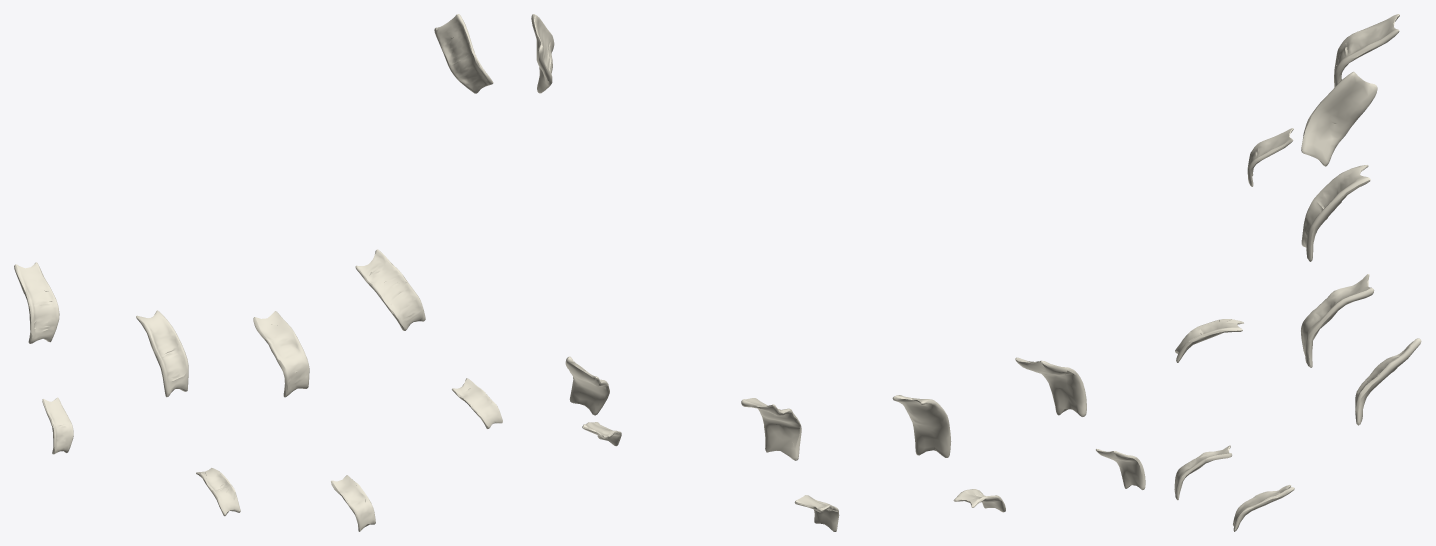
File: fma42769-l_mm1501.glb
3 renders of one model, left to right at view 1: azimuth 30°, elevation 25°; view 2: azimuth 150°, elevation 25°; view 3: azimuth 270°, elevation 25°, orthographic. The views are drawn at different scales.
Parts seen in each view (by area): view 1: FMA42769-L_MM1501; view 2: FMA42769-L_MM1501; view 3: FMA42769-L_MM1501.
Part boxes in pixels (box(x1,y1,x2,y2)): FMA42769-L_MM1501: box(14, 14, 502, 531); FMA42769-L_MM1501: box(531, 14, 1145, 531); FMA42769-L_MM1501: box(1174, 14, 1421, 531).
Size of the model in its own units: 0.0907 by 0.0796 by 0.0339.
